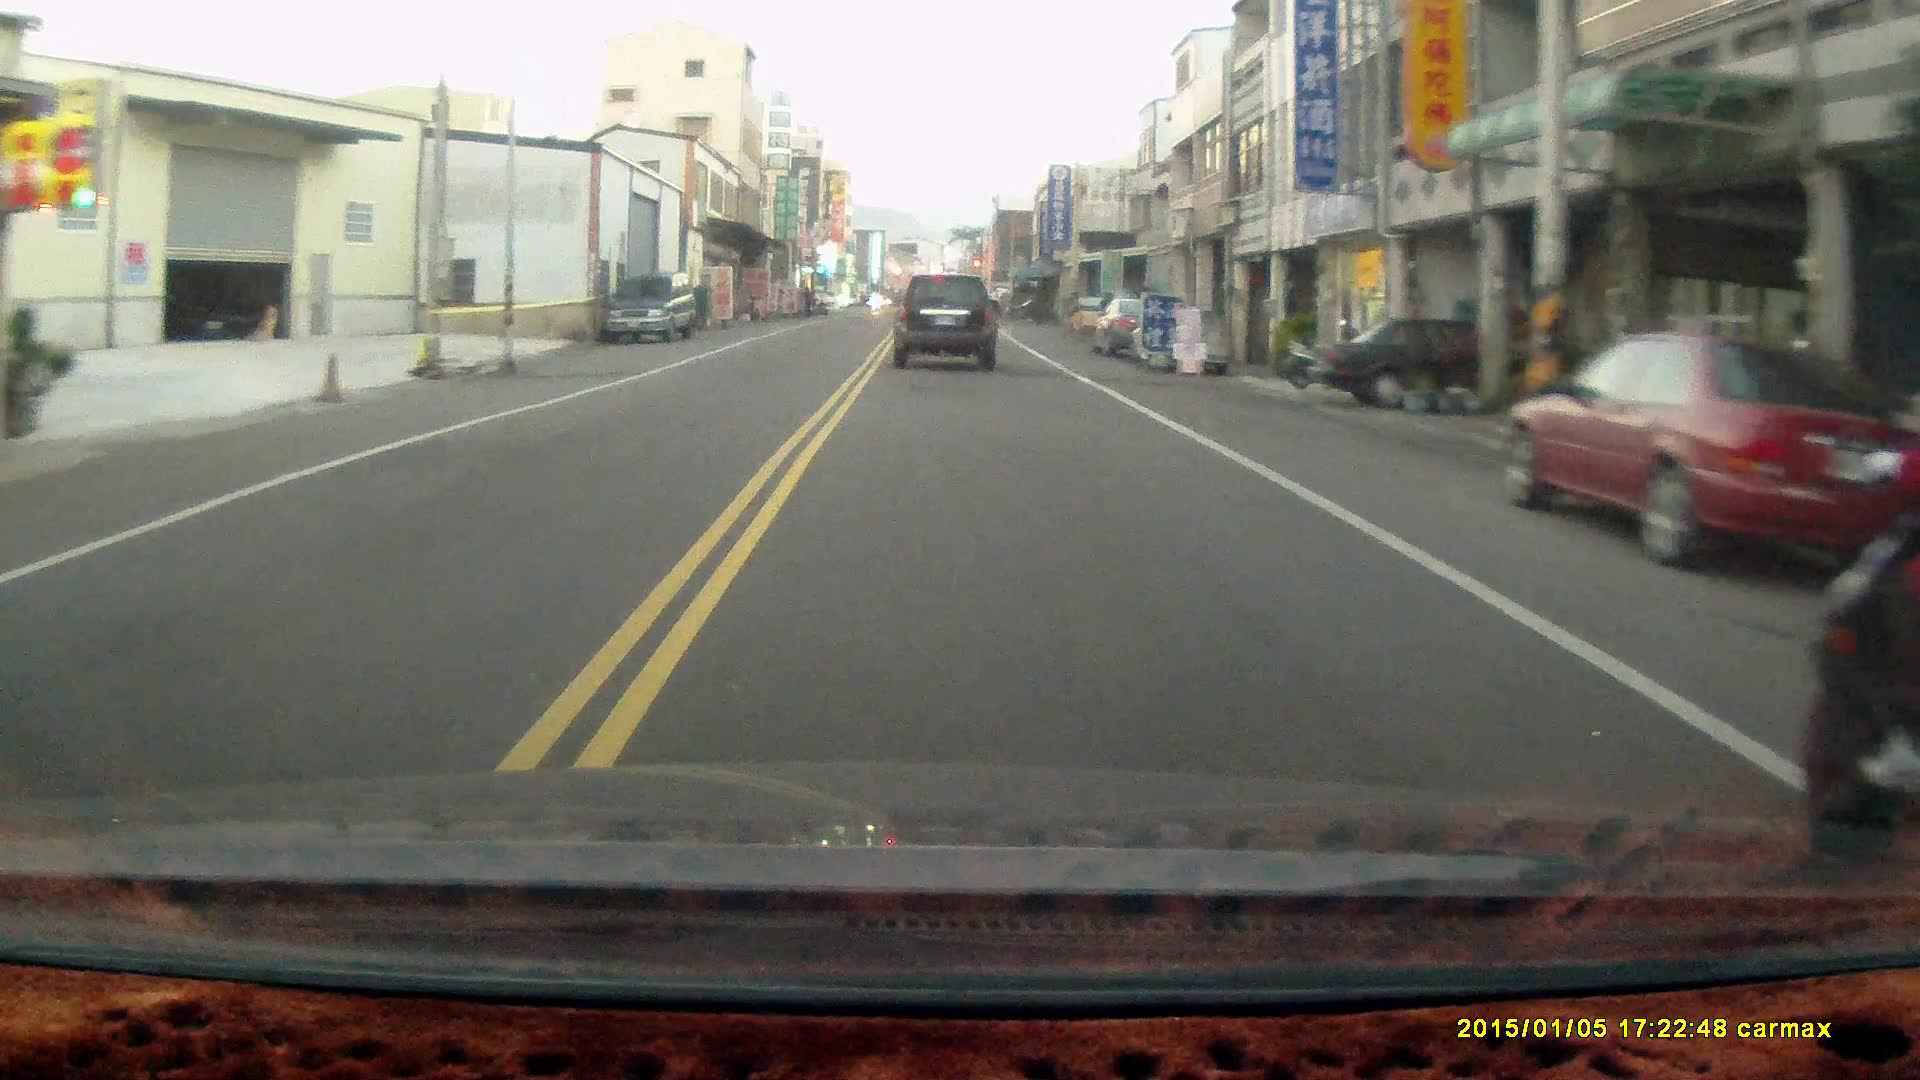rider: (1801, 440, 1913, 852)
vehicle: (1502, 331, 1920, 579), (1290, 312, 1574, 398), (890, 275, 1000, 376), (602, 273, 701, 351)
